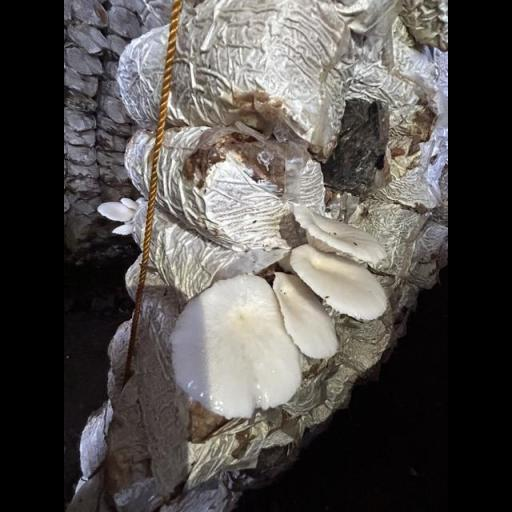White Oyster Mushroom: (168, 247, 398, 411), (88, 191, 152, 241)
